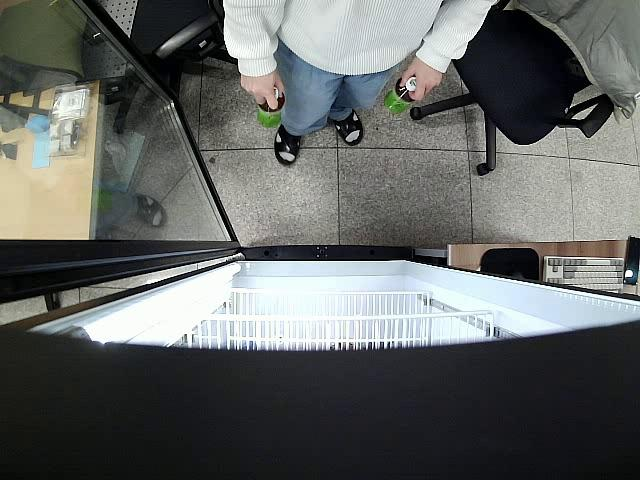00_hand: (398, 57, 443, 102), (240, 74, 283, 109)
19_17cha: (256, 86, 286, 129), (386, 74, 417, 115)
